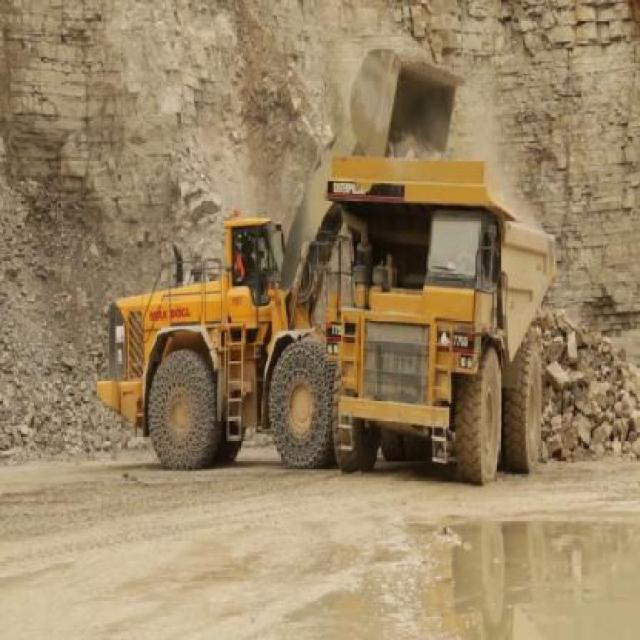dump_truck: (327, 151, 556, 484)
